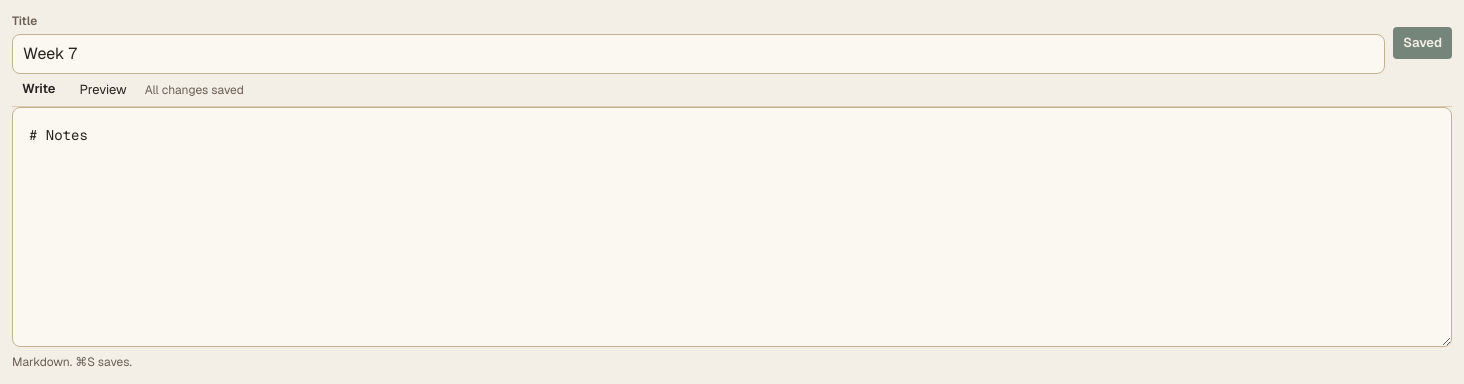
it: DocumentEditor › says Saved until something changes
Check: the button "Saved" is disabled, box [1393,27,1452,59]
Type " more" into the text box named "document content" at (732, 227), box [12,107,1452,347]
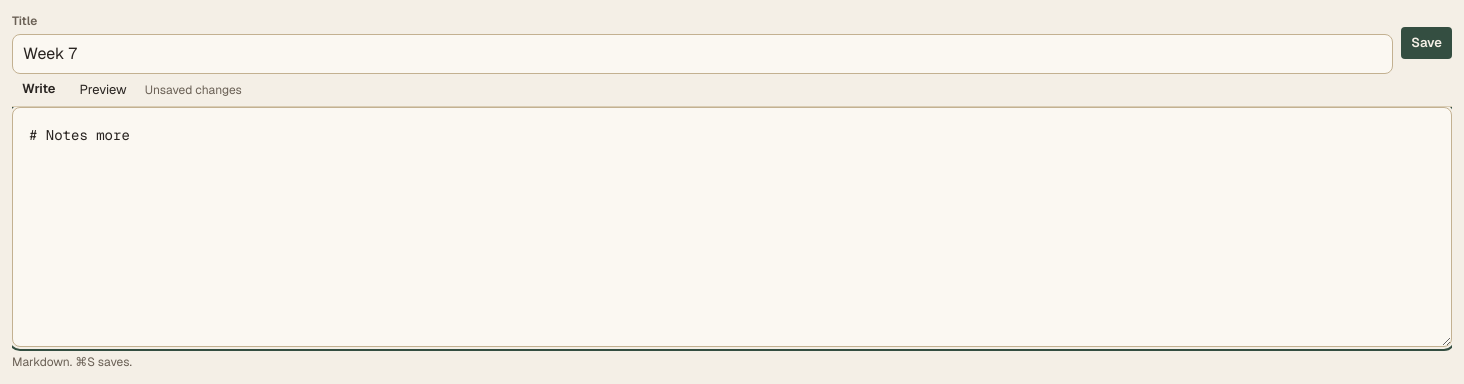
Check: the button "Save" is enabled, box [1401,27,1452,59]
Check: the text "Unsaved changes" is shown, box [145,81,242,99]
